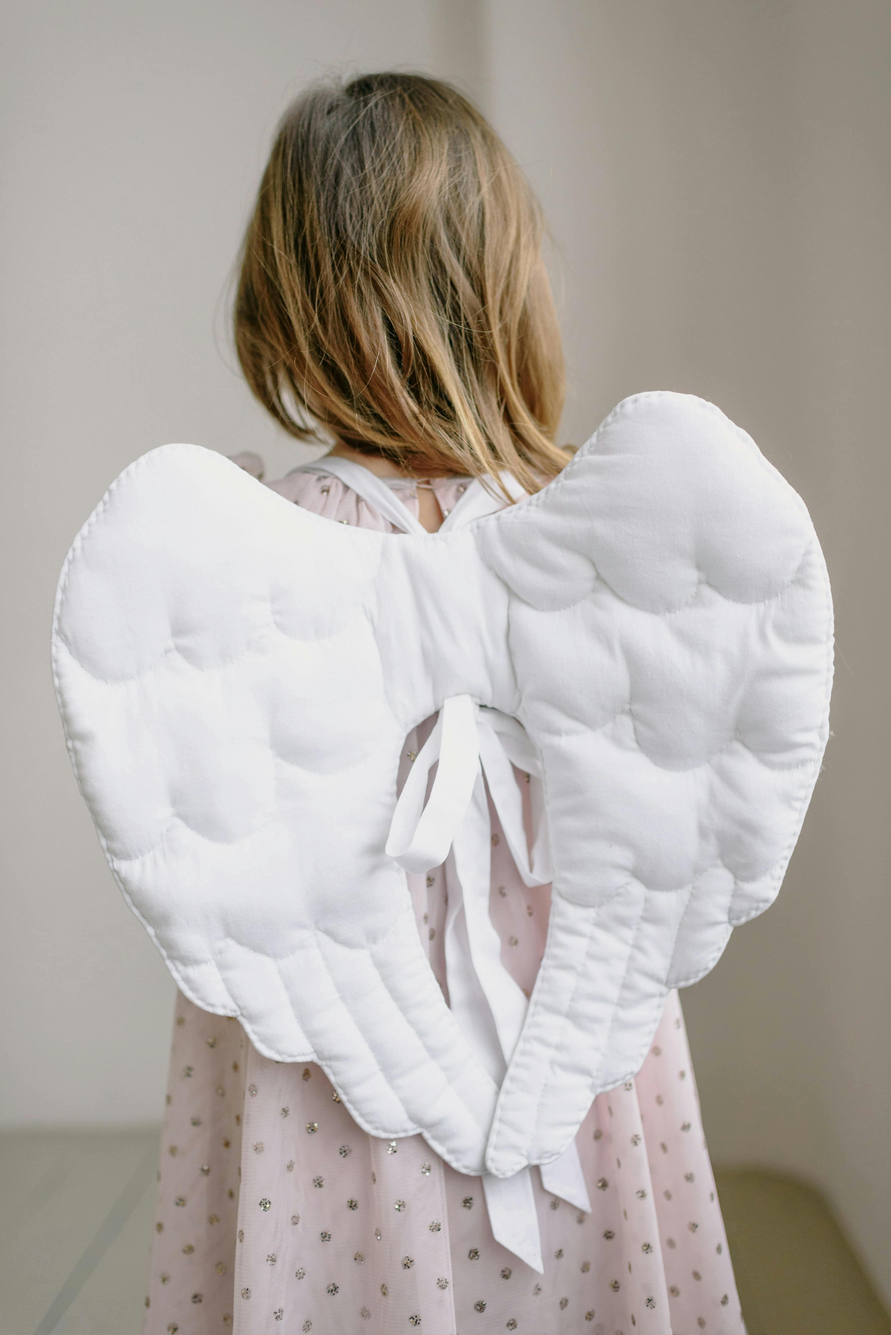Human: (121, 61, 766, 1305)
